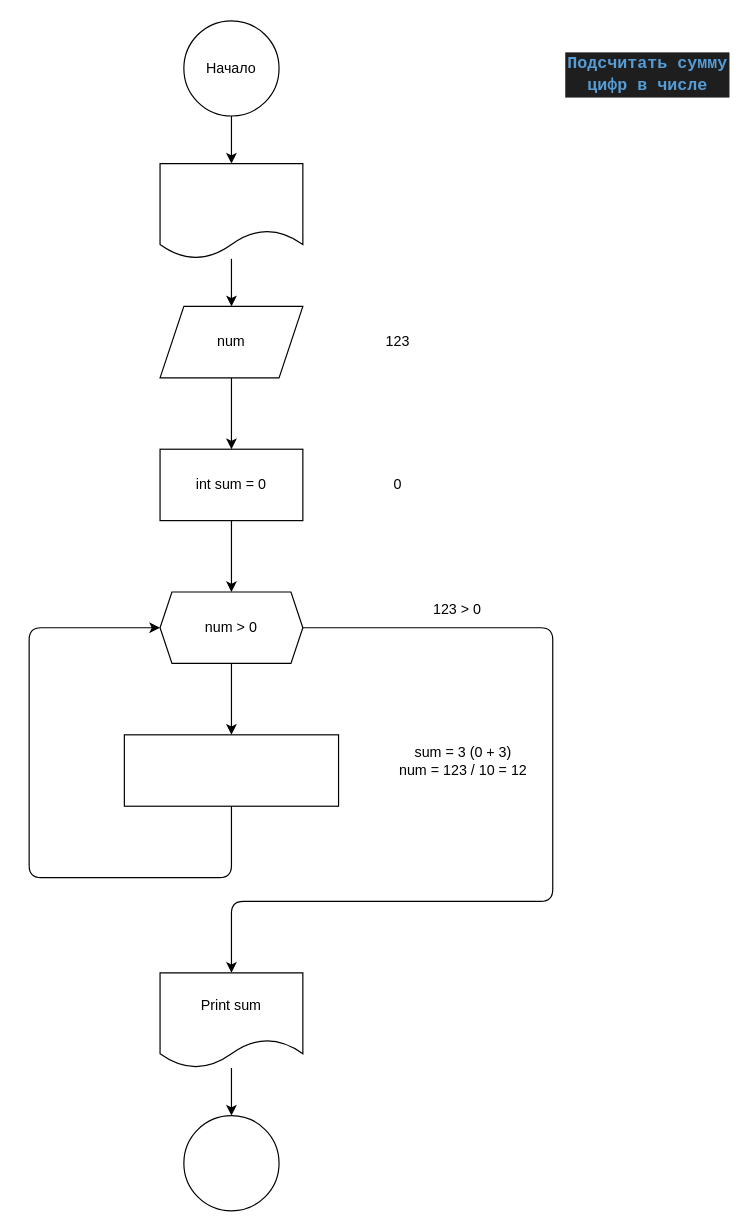
Image size: 752x1232. Some labels were removed from this diagram. The box of each missing label's shape, as (x1, y1, x2, y2) in pixels:
sum = sum + num % 10 num = num / 10: (123, 734, 339, 806)
Введите число N: (159, 162, 303, 259)
Конец: (183, 1114, 279, 1211)
